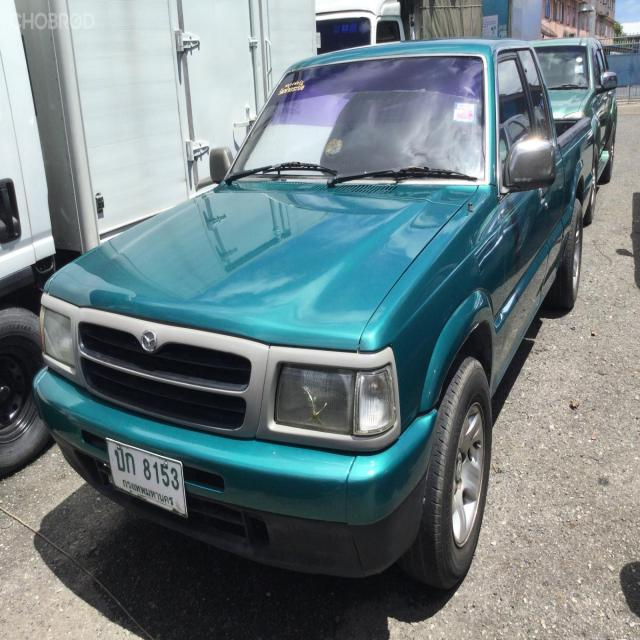license_plate: (100, 432, 197, 529)
